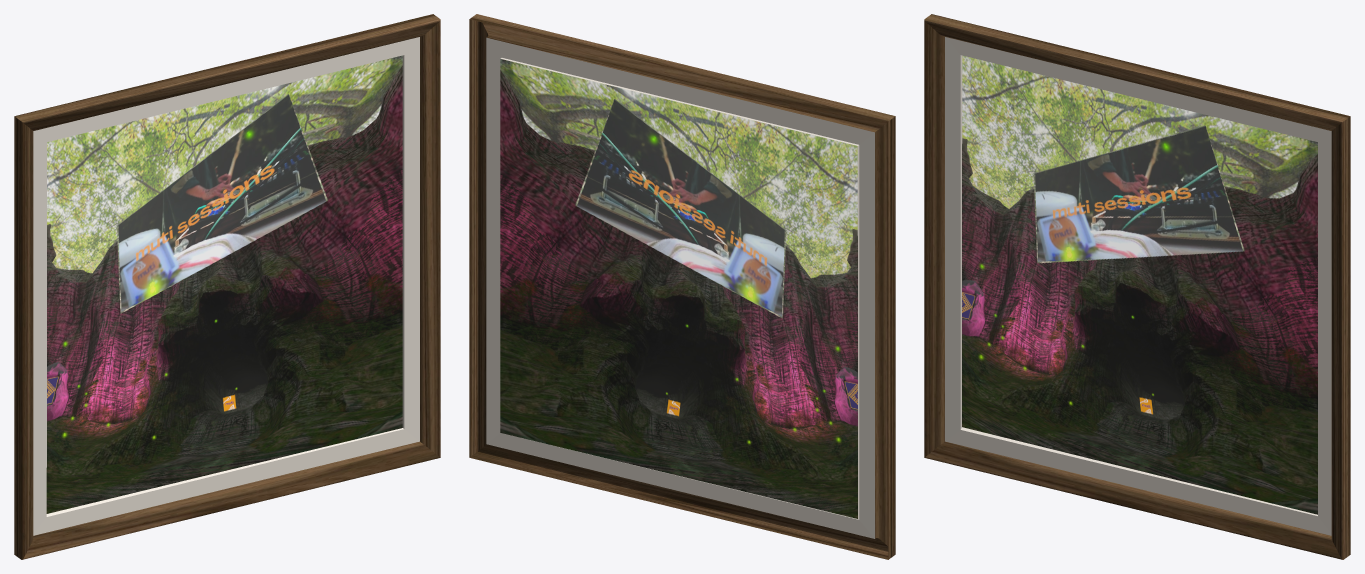
File: artwork03.glb
The picture shows the model from 3 angles, left to right: view 1: azimuth 30°, elevation 25°; view 2: azimuth 150°, elevation 25°; view 3: azimuth 330°, elevation 25°; orthographic projection.
Parts seen in each view (by area): view 1: artimage, frame; view 2: artimage, frame; view 3: artimage, frame.
Boxes of the visible parts, left/top/right/bottom form: artimage: left=46, top=55, right=402, bottom=513; frame: left=14, top=14, right=440, bottom=559; artimage: left=500, top=59, right=857, bottom=518; frame: left=469, top=14, right=895, bottom=559; artimage: left=962, top=55, right=1317, bottom=514; frame: left=924, top=14, right=1350, bottom=559.
Bounding box in the file's own units: 3.71 × 3.71 × 0.1196.
2 materials, 2 textured.
